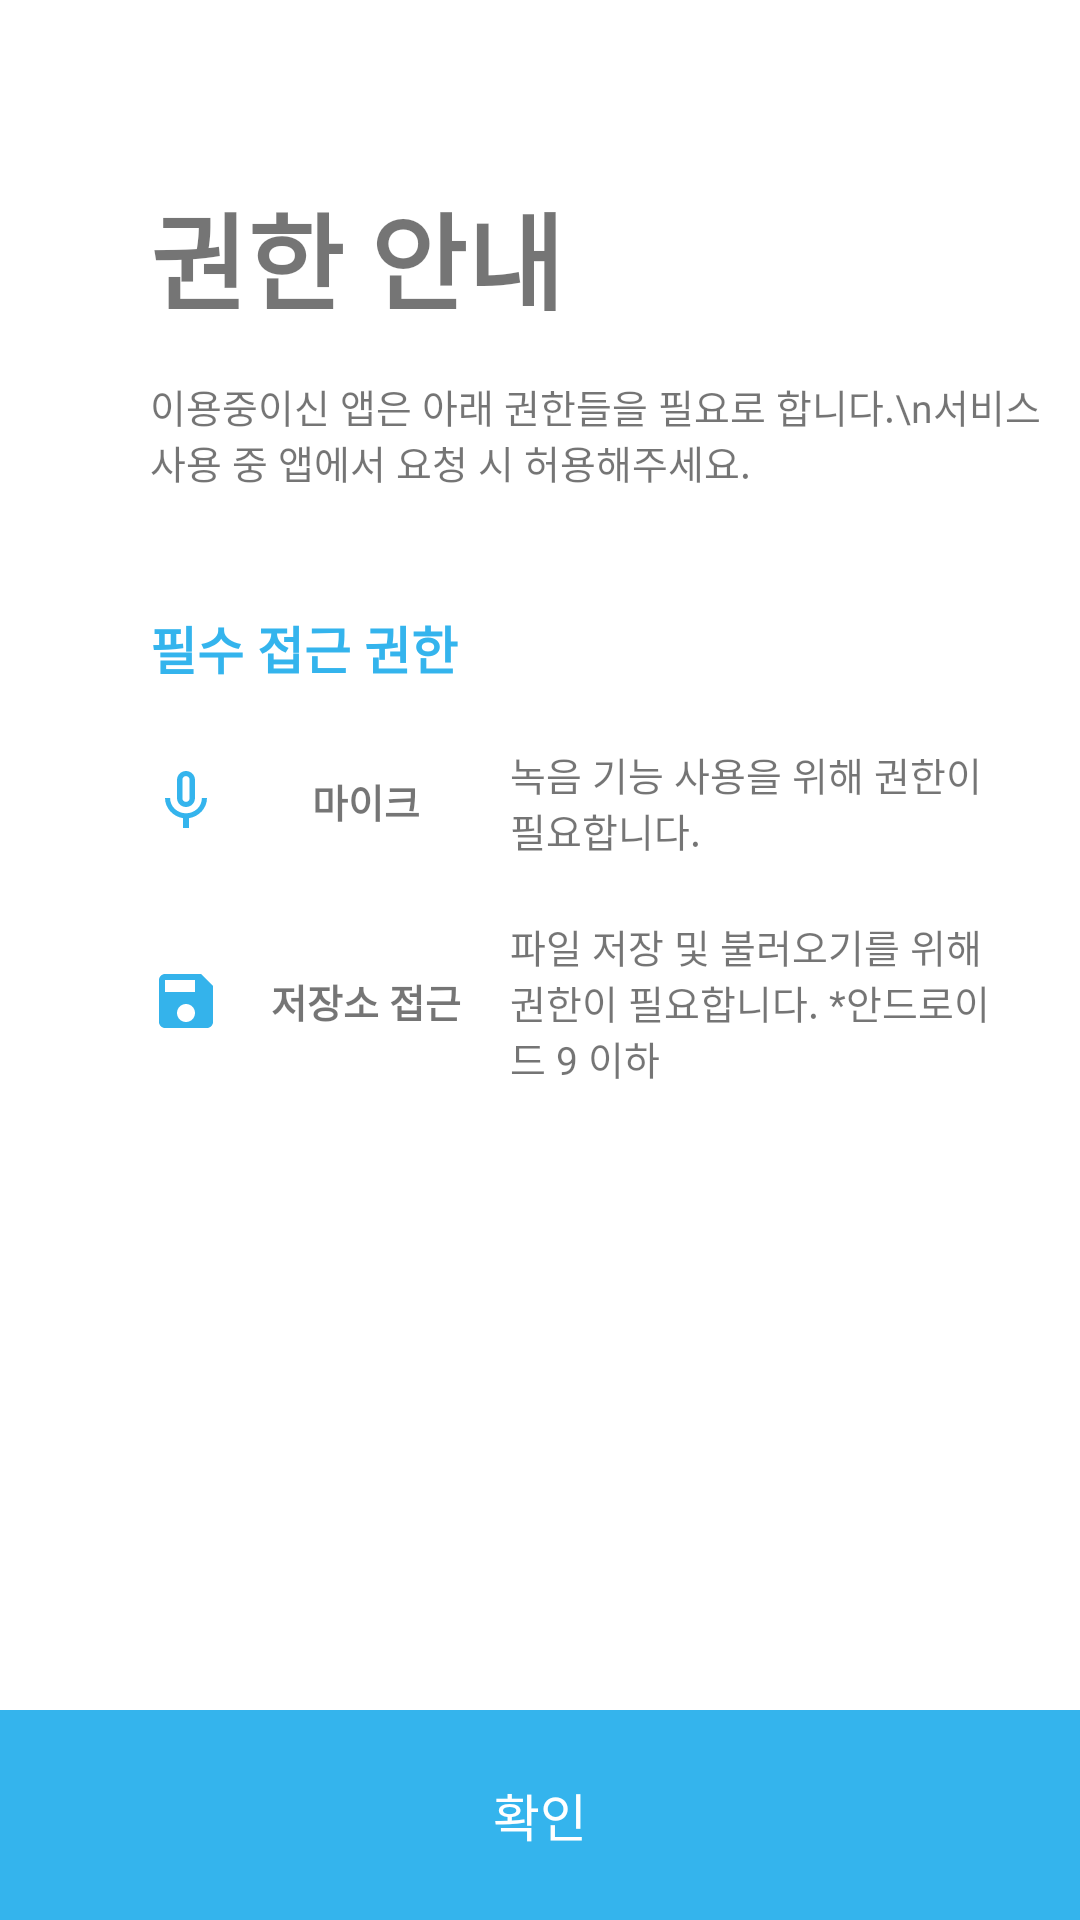

Icon click points for this 1080 × 1920 phone screenshot, format (x,y):
mic: (186,799)
save: (186,1001)
